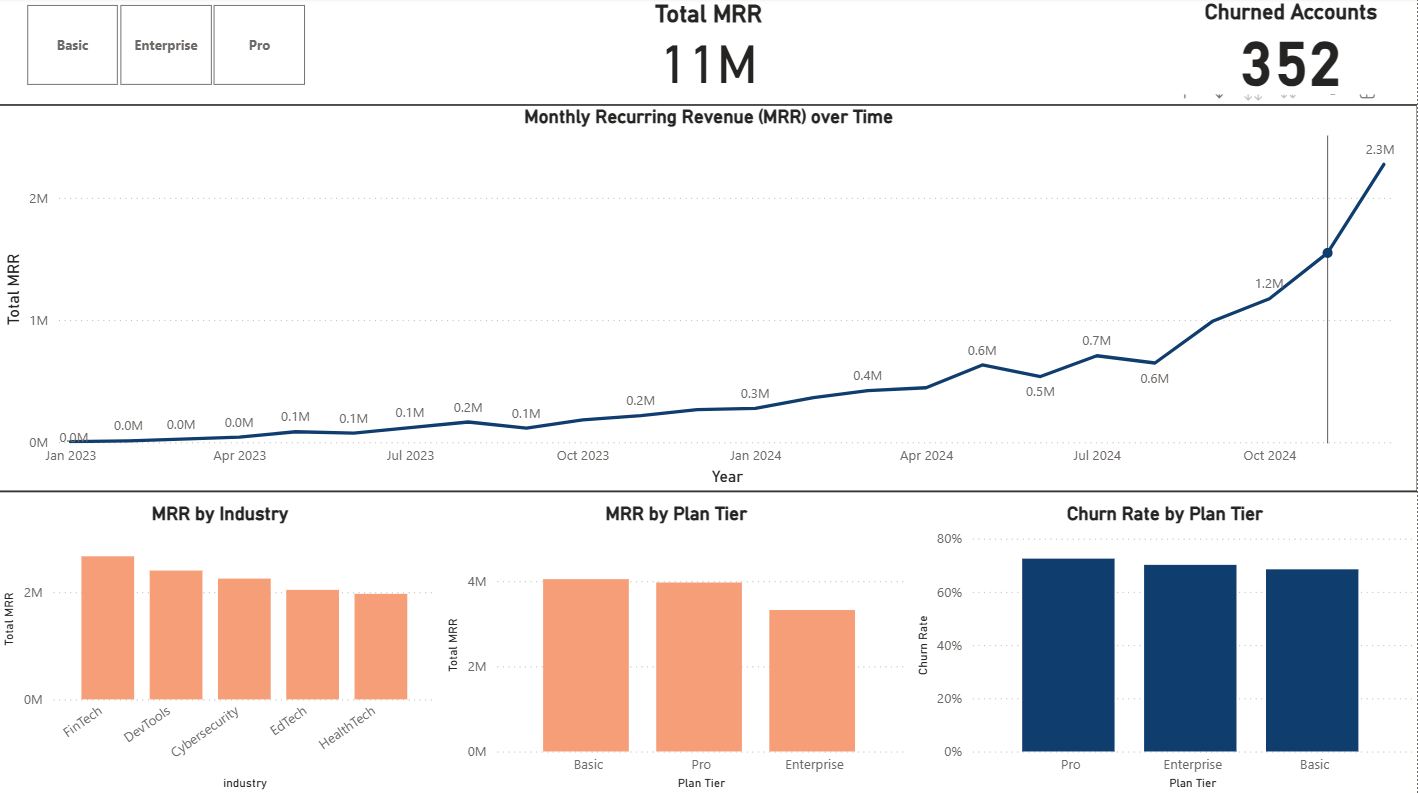

The dashboard page shown, as its layout file describes it:
{"tool":"powerbi","page":{"name":"Page 1","canvas":[1280,720],"ordinal":0},"visuals":[{"type":"lineChart","title":"Monthly Recurring Revenue (MRR) over Time","fields":{"Y":["fct_account_month_mrr.Total MRR"],"Category":["fct_account_month_mrr.month_start.Variation.Date Hierarchy.Year","fct_account_month_mrr.month_start.Variation.Date Hierarchy.Quarter","fct_account_month_mrr.month_start.Variation.Date Hierarchy.Month","fct_account_month_mrr.month_start.Variation.Date Hierarchy.Day"]},"box":[0,97,1280,349.6],"z":0},{"type":"card","title":"Total MRR","fields":{"Values":["fct_account_month_mrr.Total MRR"]},"box":[527.4,2.5,226.4,85.8],"z":1000},{"type":"clusteredColumnChart","title":"MRR by Plan Tier","fields":{"Category":["stg_accounts.plan_tier"],"Y":["fct_account_month_mrr.Total MRR"]},"box":[400.6,455.3,422.9,265],"z":2000},{"type":"clusteredColumnChart","title":"MRR by Industry","fields":{"Y":["fct_account_month_mrr.Total MRR"],"Category":["stg_accounts.industry"]},"box":[0,455.3,400.6,265],"z":3000},{"type":"card","title":"Churned Accounts","fields":{"Values":["fct_account_revenue_churn.Churned Accounts"]},"box":[1052.4,2.5,226.4,85.8],"z":4000},{"type":"clusteredColumnChart","title":"Churn Rate by Plan Tier","fields":{"Y":["fct_account_revenue_churn.Churn Rate"],"Category":["fct_account_revenue_churn.plan_tier"]},"box":[823.5,455.3,456.5,265],"z":6000},{"type":"slicer","fields":{"Values":["stg_accounts.plan_tier"]},"box":[0,0,301,85.8],"z":6001}]}

Visuals, with their boxes in screenshot pixels (x1, y1, x2, y2), scaled from the page's 1280x720 canvas onto the 1418x793 screenshot:
"Monthly Recurring Revenue (MRR) over Time" lineChart: 0/107/1417/492
"Total MRR" card: 584/3/835/97
"MRR by Plan Tier" clusteredColumnChart: 444/501/912/792
"MRR by Industry" clusteredColumnChart: 0/501/444/792
"Churned Accounts" card: 1166/3/1417/97
"Churn Rate by Plan Tier" clusteredColumnChart: 912/501/1417/792
slicer - stg_accounts.plan_tier: 0/0/333/94
